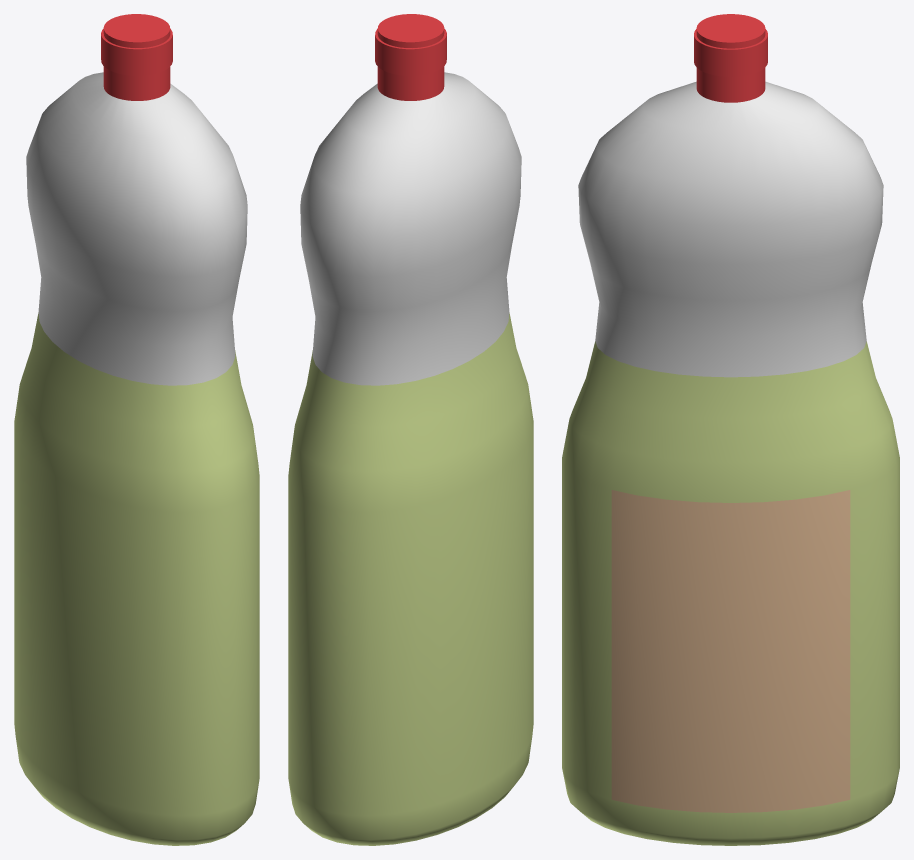
The model's file is spüli.fbx.
3 renders of one model, left to right at view 1: azimuth 30°, elevation 25°; view 2: azimuth 150°, elevation 25°; view 3: azimuth 270°, elevation 25°, orthographic. The views are drawn at different scales.
Parts seen in each view (by area): view 1: Cylinder; view 2: Cylinder; view 3: Cylinder.
Boxes of the visible parts, bbox=[...] form: Cylinder: bbox=[14, 14, 259, 845]; Cylinder: bbox=[288, 14, 533, 845]; Cylinder: bbox=[562, 14, 899, 845].
Size of the model in its own units: 8.4 by 33.63 by 13.25.
